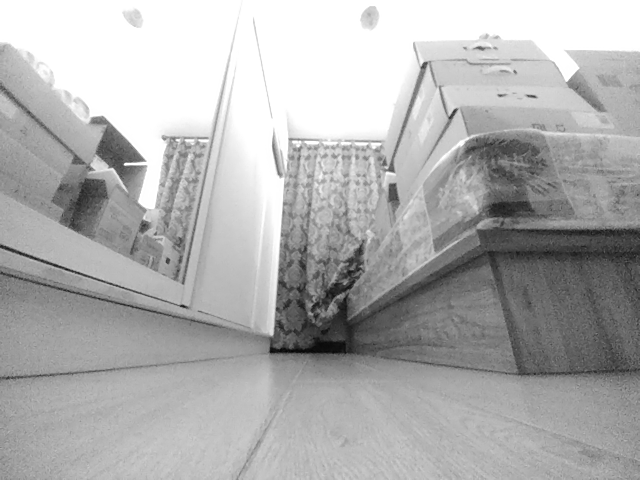curtain: (270, 137, 326, 354)
